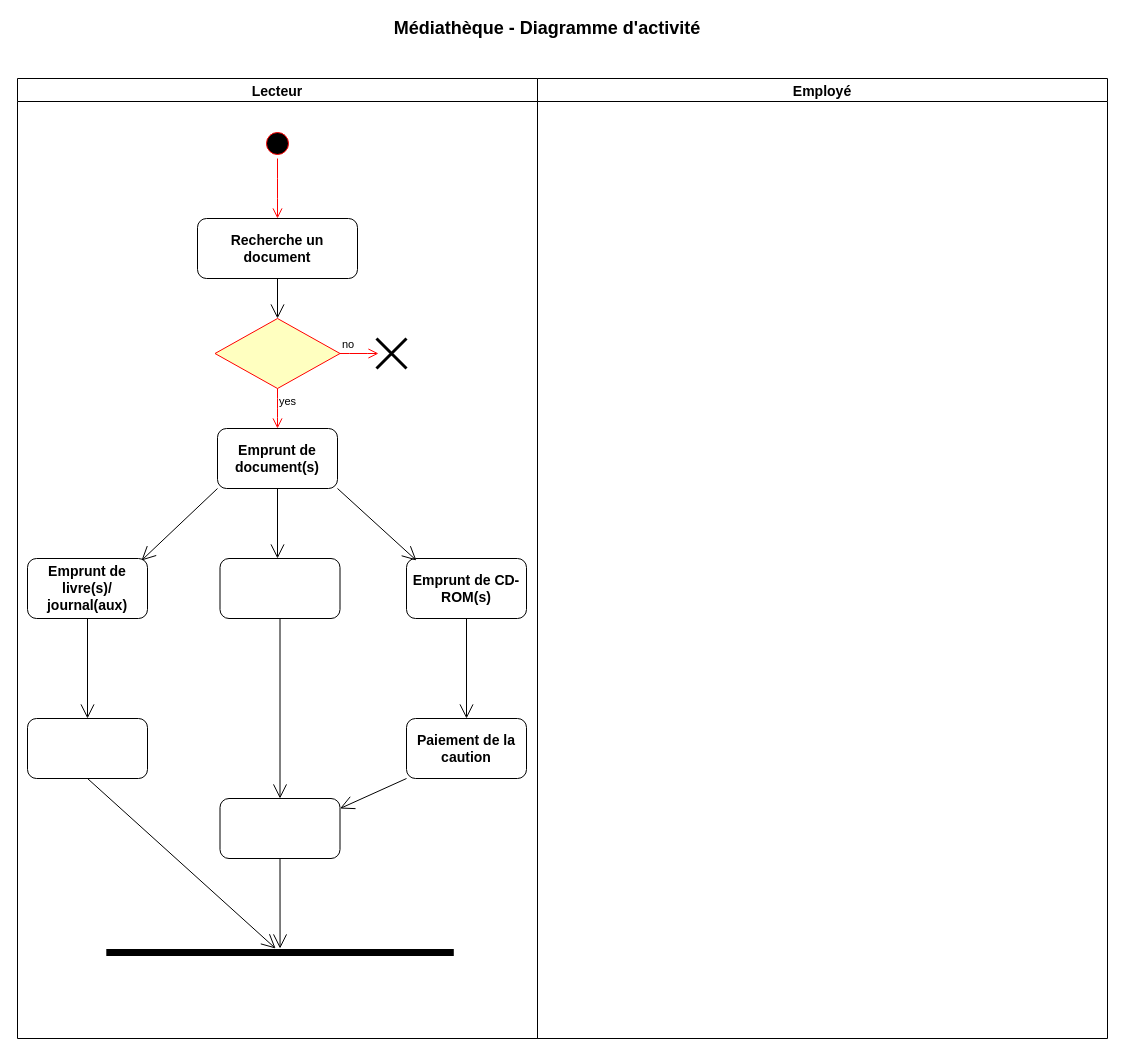
The diagram is 1125 pixels wide and 1056 high, and some of its shapes have lost their labels. The centre of each missing label's shape, as x and y in pixels:
Consultation de microfilm(s): pixel 279 588
Document existant: pixel 277 353
Retrait au guichet: pixel 279 828
Retrait en rayonnage: pixel 87 748
